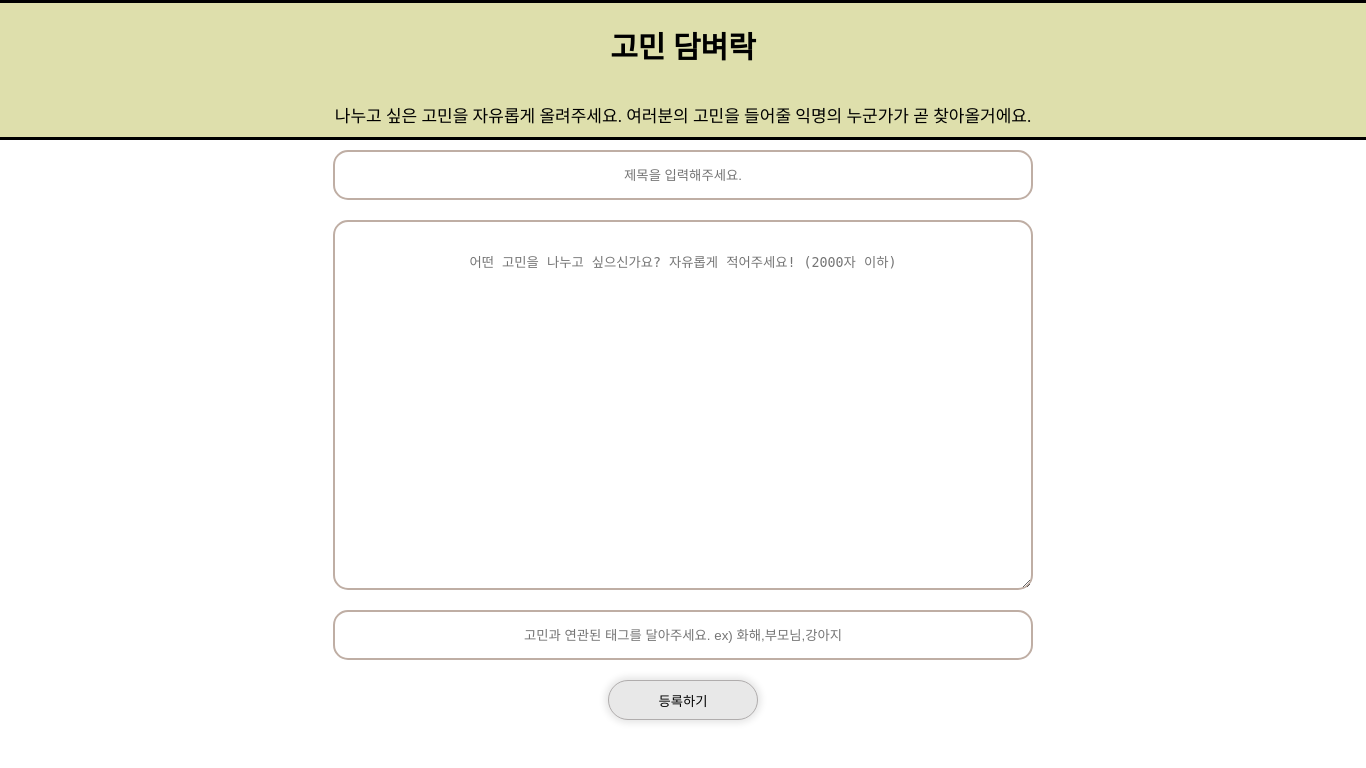
Scenario: in UploadStory Component › cannot type special character except (,) in hashtag input
In the field with placeholder "고민과 연관된 태그를 달아주세요. ex) 화해,부모님,강아지": {"x": 683, "y": 635} [333,610,1033,660], type "!"
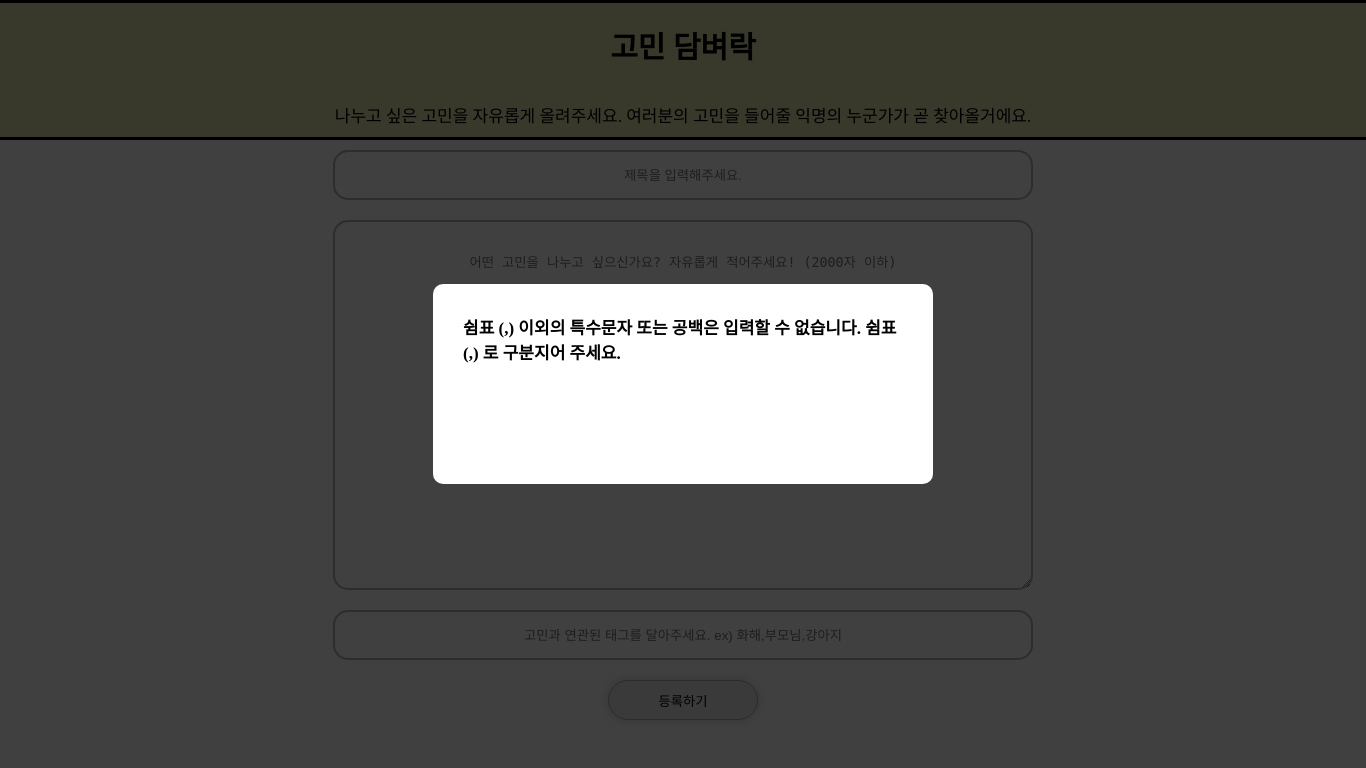
Check: the text "쉼표 (,) 이외의 특수문자 또는 공백은 입력할 수 없습니다. 쉼표 (,) 로 구분지어 주세요." is shown, box [433,284,933,484]
